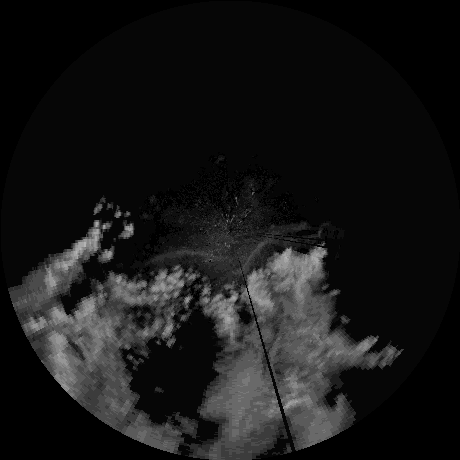frontgust: (235, 233, 322, 275), (136, 247, 228, 268)
